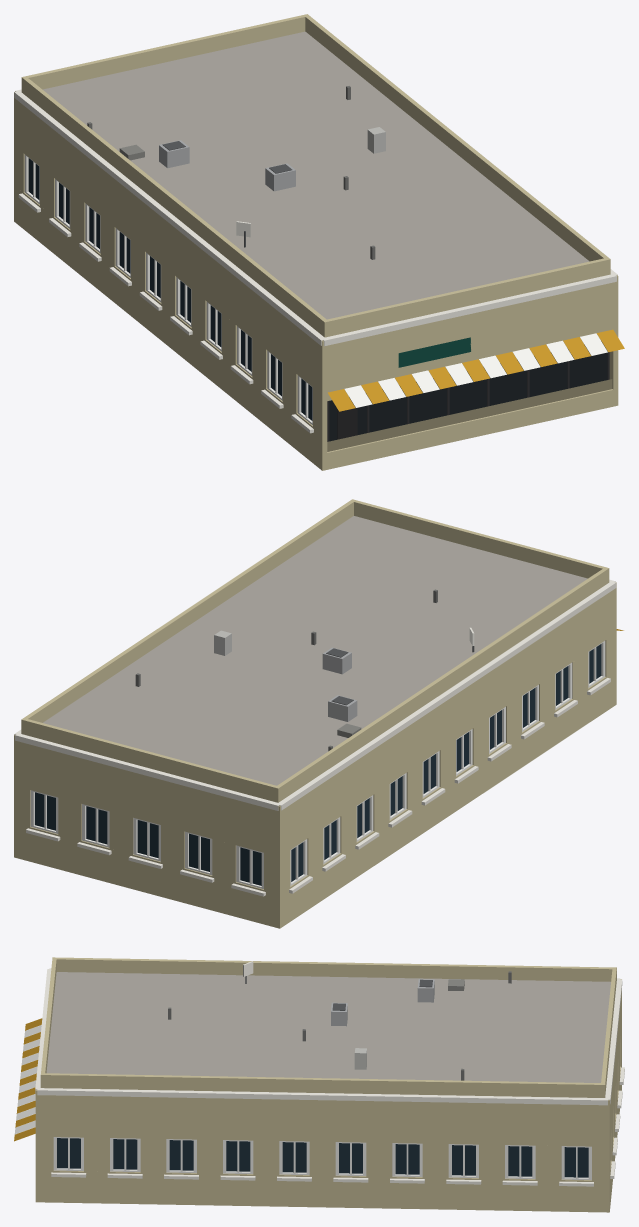
3 views of the same model, one above another, from view 1: azimuth 30°, elevation 25°; view 2: azimuth 150°, elevation 25°; view 3: azimuth 270°, elevation 25° (orthographic). The views are drawn at different scales.
Parts seen in each view (by area): view 1: b690_opaque, b690_glass; view 2: b690_opaque, b690_glass; view 3: b690_opaque, b690_glass.
Boxes of the visible parts, x1=… form: b690_opaque: x1=14, y1=14, x2=624, y2=470; b690_glass: x1=28, y1=158, x2=607, y2=441; b690_opaque: x1=14, y1=499, x2=623, y2=928; b690_glass: x1=35, y1=644, x2=601, y2=885; b690_opaque: x1=14, y1=957, x2=624, y2=1212; b690_glass: x1=57, y1=1138, x2=588, y2=1177.
Bounding box in the file's own units: 5932 × 2740 × 11393.
